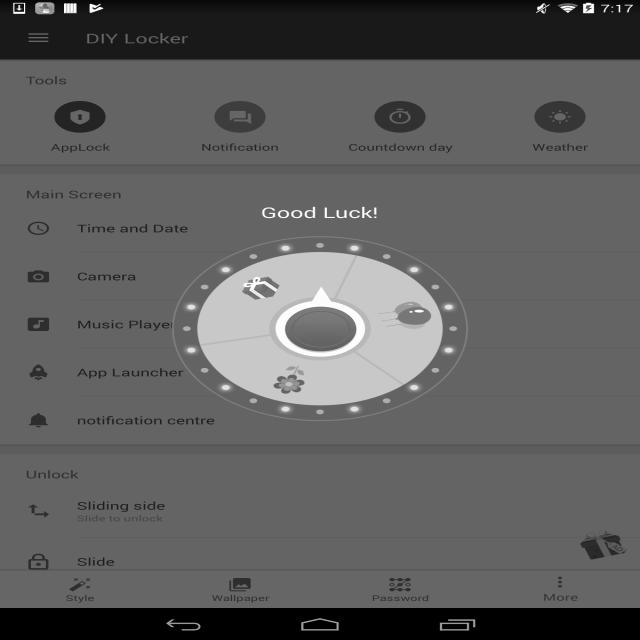ImageButton: (9, 17, 68, 59)
ImageView: (54, 101, 106, 133), (214, 101, 266, 133), (374, 101, 426, 133), (534, 101, 586, 133), (26, 220, 51, 237), (67, 576, 93, 592), (227, 576, 253, 592), (387, 576, 413, 592), (547, 574, 573, 590), (26, 268, 51, 284), (26, 316, 51, 332), (26, 364, 51, 380), (26, 412, 51, 428), (26, 503, 51, 519), (26, 554, 51, 570), (26, 602, 51, 618)
TextView: (76, 602, 538, 617), (2, 140, 158, 154), (162, 140, 318, 154), (322, 140, 478, 154), (482, 140, 638, 154), (77, 413, 215, 427), (26, 184, 121, 204), (85, 29, 189, 47), (13, 592, 147, 604), (173, 592, 307, 604), (333, 592, 467, 604), (493, 591, 627, 603), (77, 221, 188, 235), (77, 365, 183, 379), (77, 317, 176, 331), (77, 498, 165, 513), (26, 464, 78, 484), (76, 512, 162, 524), (26, 70, 68, 90), (77, 269, 136, 283), (76, 554, 115, 569)
